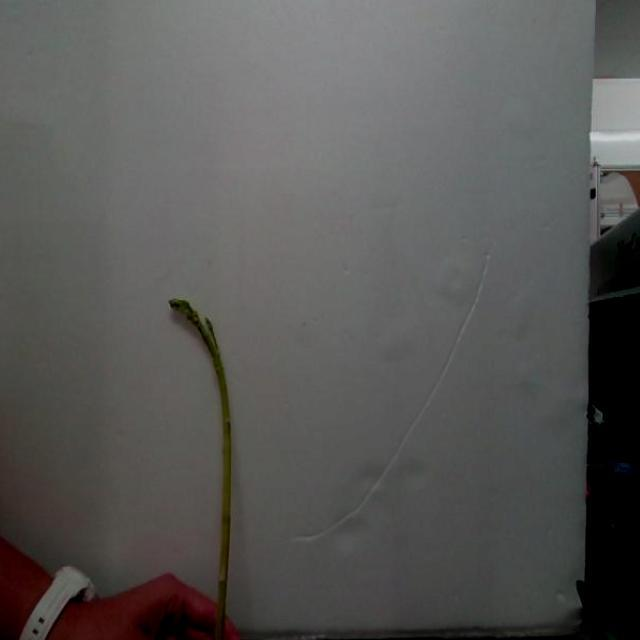aspargus: (171, 300, 235, 640)
